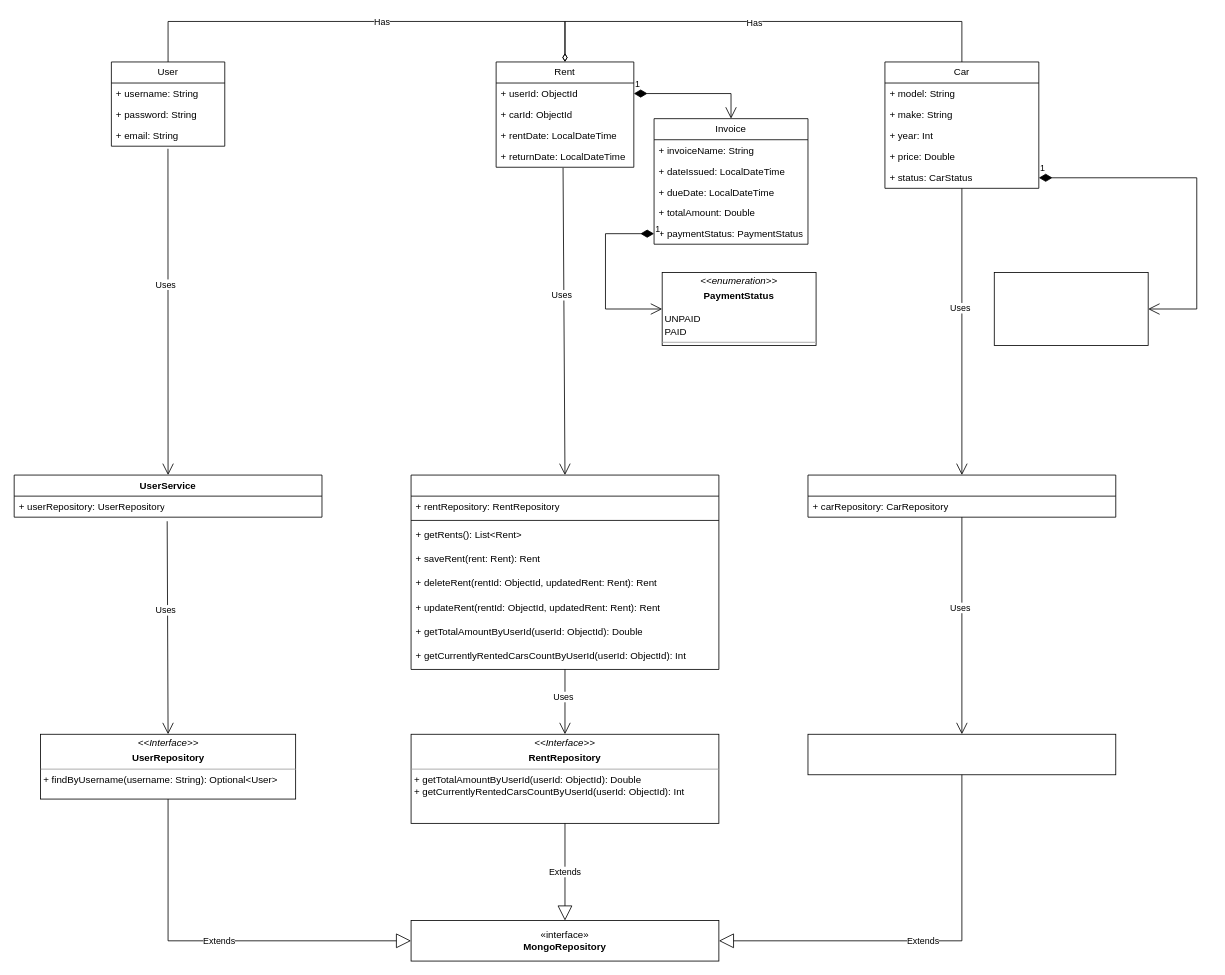
The diagram is 1225 pixels wide and 975 high, and some of its shapes have lost their labels. Here are the shapes that lost their labels. From the top down, the box of each, then its label:
(993, 272, 1148, 345): <<enumeration>> CarStatus AVAILABLE RENTED
(807, 474, 1116, 517): CarService
(410, 474, 719, 669): RentService
(807, 733, 1116, 775): «interface» CarRepository
